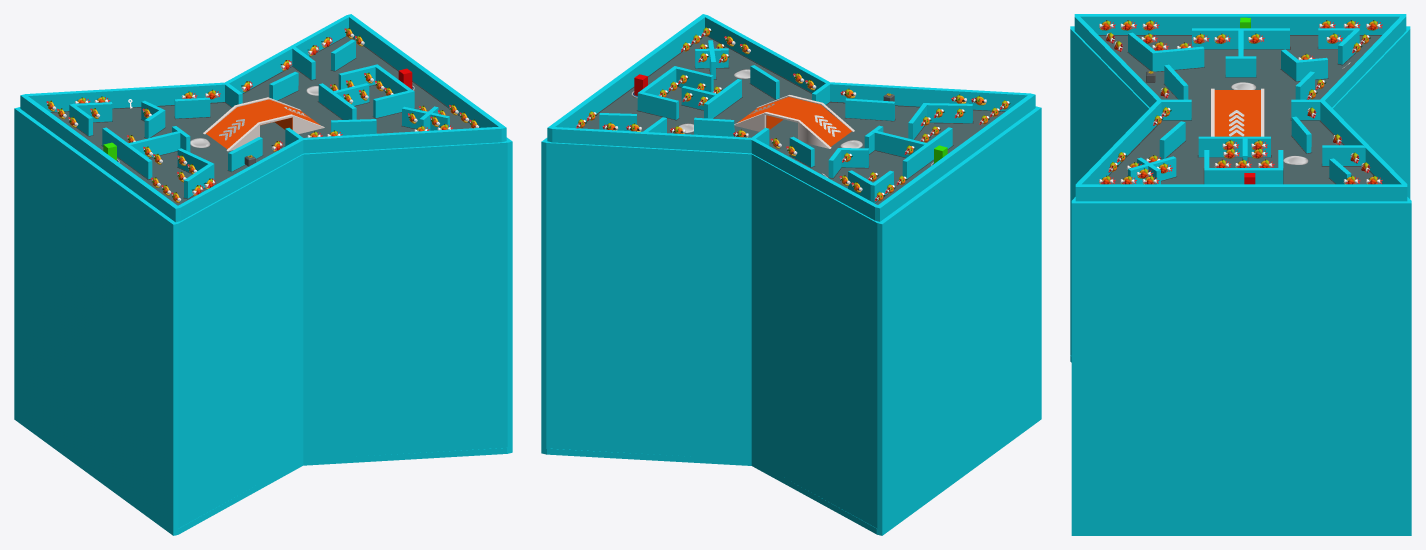
File: Level_14.fbx
3 renders of one model, left to right at view 1: azimuth 30°, elevation 25°; view 2: azimuth 150°, elevation 25°; view 3: azimuth 270°, elevation 25°, orthographic. The views are drawn at different scales.
Parts seen in each view (by area): view 1: CompoundWall__1_, CompoundWall, Base, Up___Down_Object, Walls_12, Walls_4, Walls_19, Up___Down_Object__2_, Walls_18, Walls_22, Walls_9, Walls_8 (+2 smaller); view 2: CompoundWall__1_, CompoundWall, Base, Up___Down_Object, Walls_8, Walls_12, Up___Down_Object__1_, Walls_11, Walls_4, Walls_3, Walls_18, Walls_21 (+2 smaller); view 3: CompoundWall__1_, CompoundWall, Base, Up___Down_Object, Walls_12, Walls_6, Walls_18, Walls_13, Walls_20, Walls_5, Walls_9, Walls_3 (+8 smaller).
Part boxes in pixels (x1,y1,x2,y2): CompoundWall__1_: (14, 107, 512, 535); CompoundWall: (20, 14, 506, 222); Base: (51, 36, 471, 205); Up___Down_Object: (206, 99, 320, 149); Walls_12: (101, 127, 152, 179); Walls_4: (127, 130, 182, 158); Walls_19: (372, 90, 414, 118); Up___Down_Object__2_: (226, 114, 324, 151); Walls_18: (317, 83, 356, 119); Walls_22: (174, 97, 210, 119); Walls_9: (331, 119, 376, 135); Walls_8: (227, 137, 263, 171); CompoundWall__1_: (541, 106, 1041, 535); CompoundWall: (547, 14, 1035, 221); Base: (579, 36, 1004, 204); Up___Down_Object: (737, 97, 851, 146); Walls_8: (845, 98, 895, 121); Walls_12: (902, 127, 953, 179); Up___Down_Object__1_: (734, 112, 831, 148); Walls_11: (637, 92, 679, 120); Walls_4: (872, 130, 927, 157); Walls_3: (923, 103, 973, 123); Walls_18: (704, 79, 742, 118); Walls_21: (694, 117, 734, 136); CompoundWall__1_: (1070, 26, 1411, 535); CompoundWall: (1074, 14, 1407, 201); Base: (1099, 35, 1381, 184); Up___Down_Object: (1214, 90, 1260, 136); Walls_12: (1191, 28, 1290, 49); Walls_6: (1204, 168, 1283, 184); Walls_18: (1197, 136, 1271, 157); Walls_13: (1152, 46, 1204, 71); Walls_20: (1321, 145, 1365, 166); Walls_5: (1225, 56, 1256, 77); Walls_9: (1159, 121, 1185, 159); Walls_3: (1127, 32, 1156, 71).
Bounding box in the file's own units: 270 × 249 × 220.
